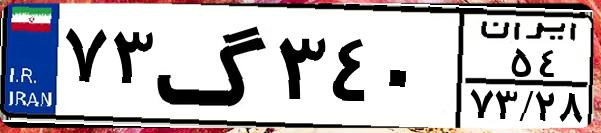0: (385, 28, 445, 110)
2: (535, 70, 560, 125)
3: (270, 28, 330, 110), (110, 28, 156, 98), (495, 70, 520, 125)
4: (330, 28, 385, 110), (537, 27, 568, 80)
5: (508, 27, 537, 80)
7: (57, 26, 110, 100), (470, 70, 495, 125)
8: (560, 70, 590, 125)
گ: (156, 12, 270, 120)
